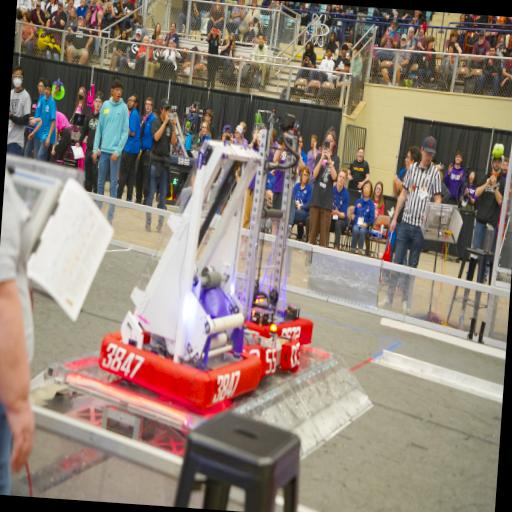robot: (110, 114, 278, 410), (242, 124, 329, 351), (222, 295, 306, 379)
